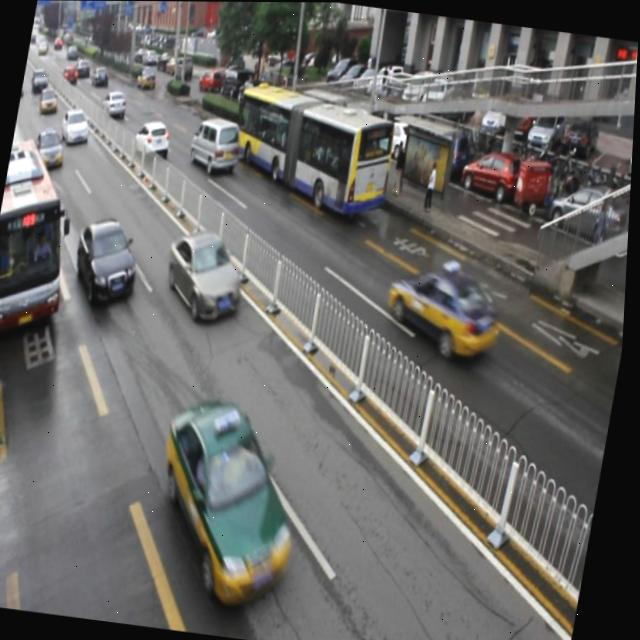car: (148, 397, 318, 607), (383, 253, 510, 361), (160, 226, 255, 327), (71, 214, 147, 304), (35, 124, 70, 168), (135, 118, 173, 158), (60, 108, 93, 147)
truck: (187, 112, 243, 173)
van: (225, 76, 403, 221), (0, 139, 87, 337)
